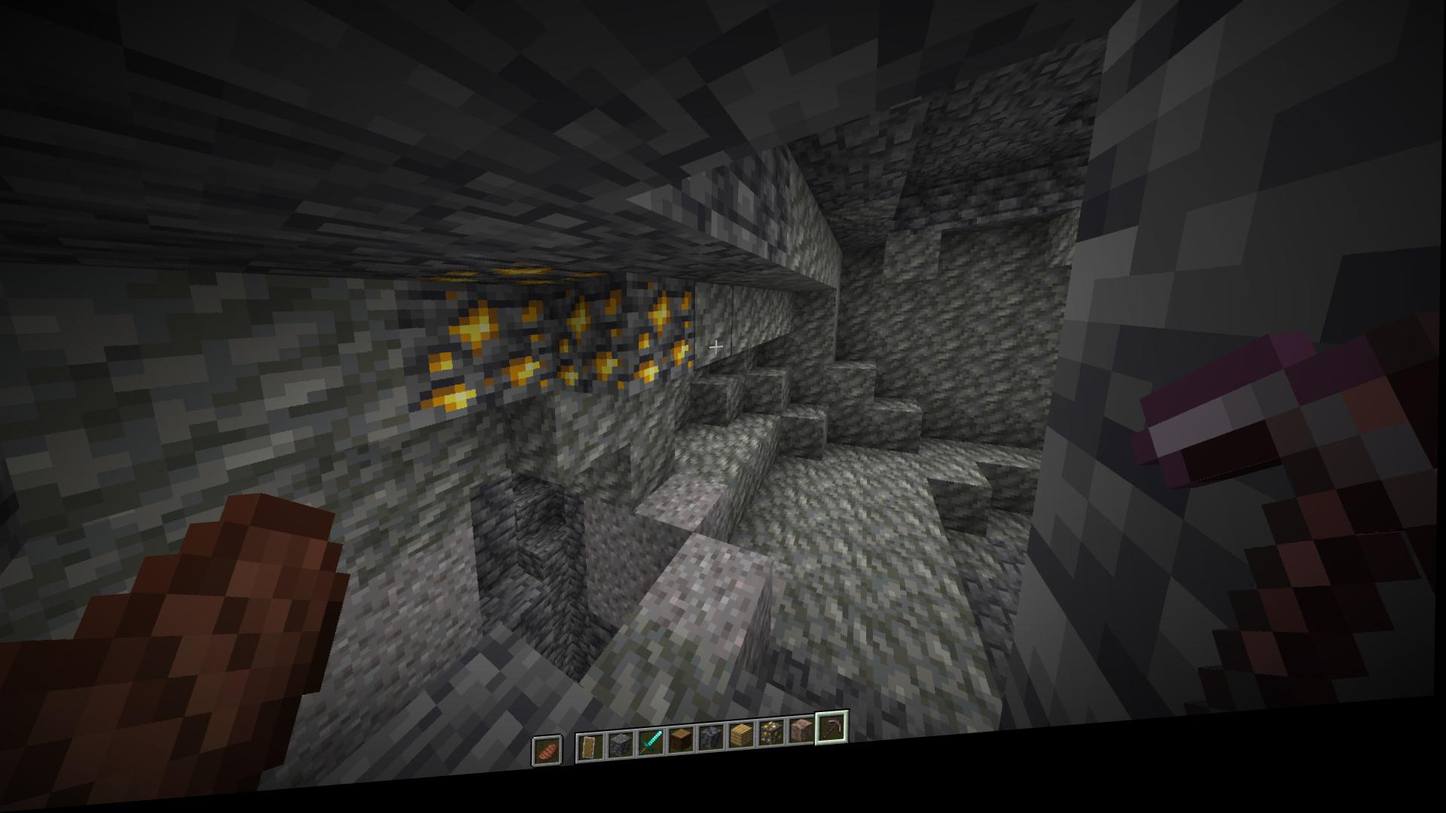gold ore: (400, 281, 558, 426), (551, 282, 631, 409), (616, 293, 695, 400)
